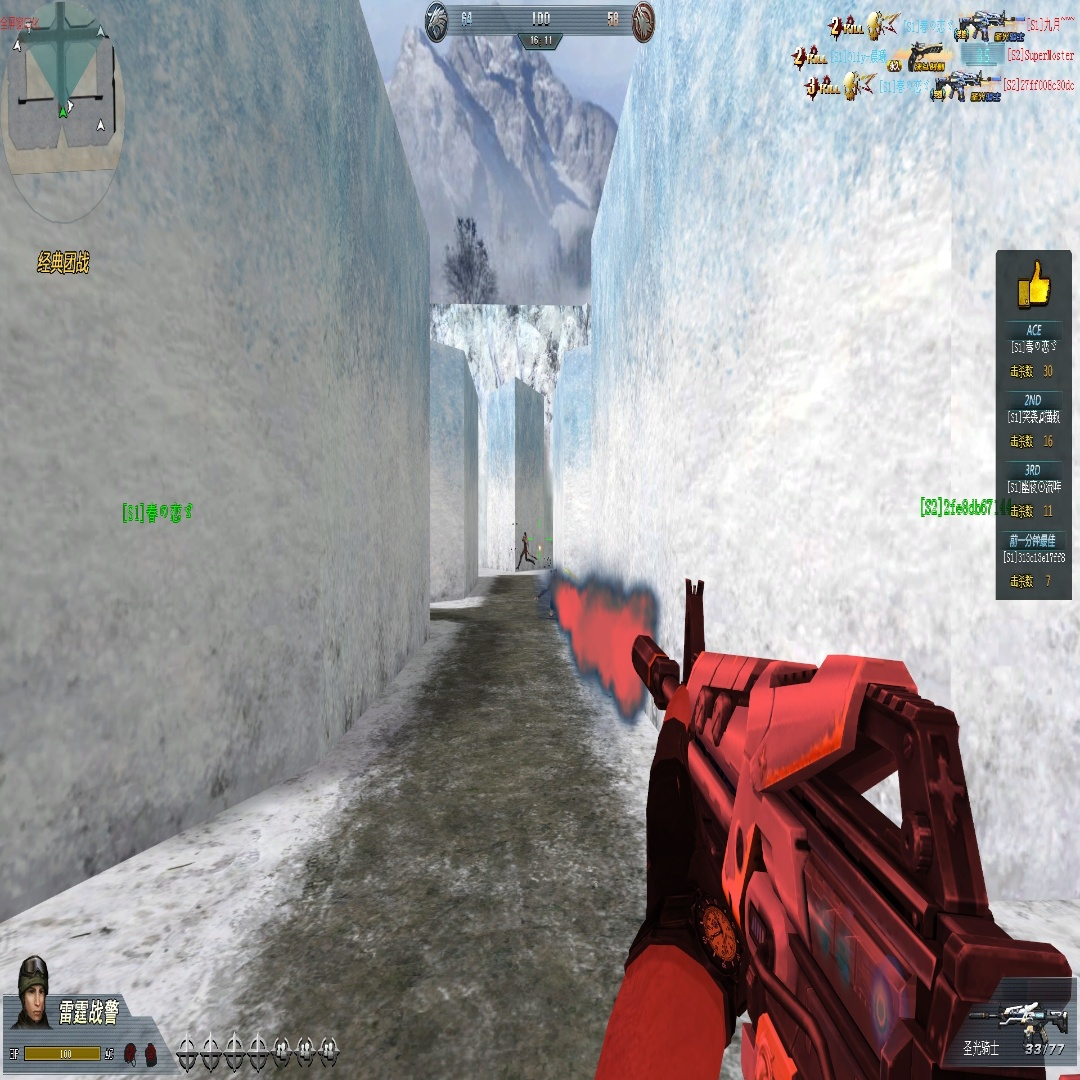t: (519, 530, 529, 570)
